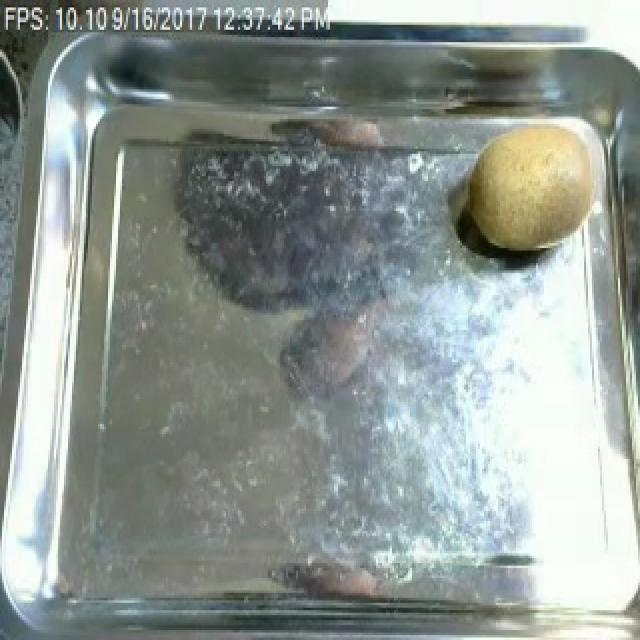Fruit: (458, 112, 618, 260)
